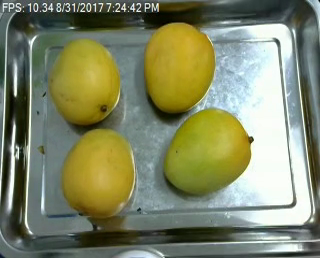Mango: (165, 108, 252, 198), (62, 126, 134, 217), (143, 23, 214, 111), (49, 41, 119, 124)
